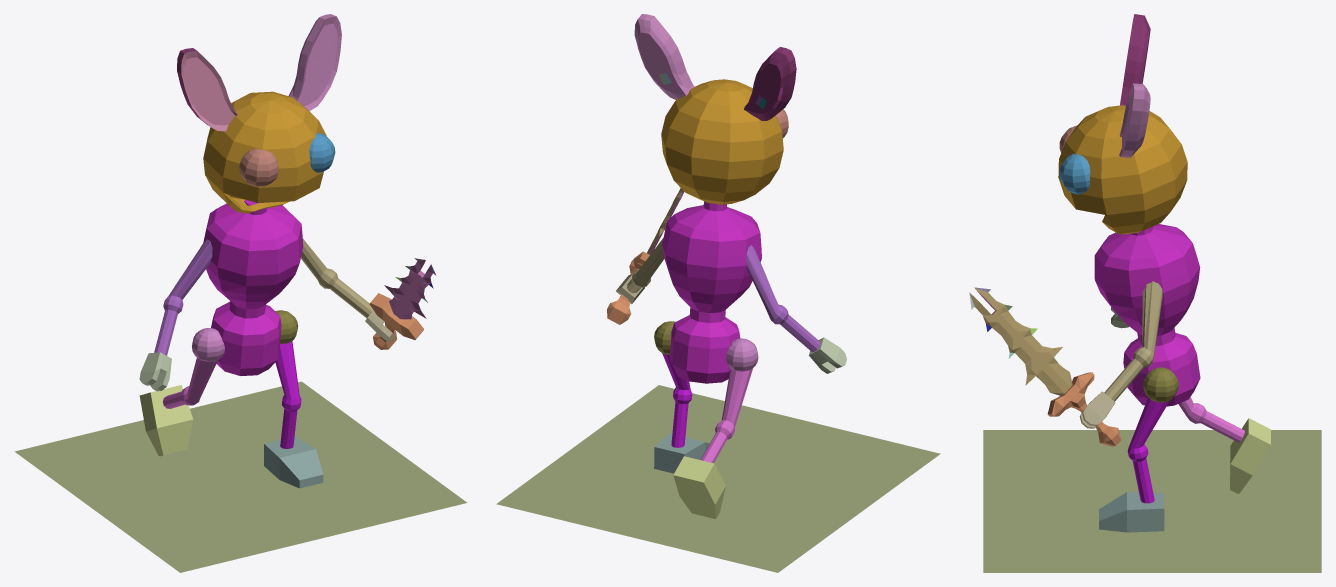
3 renders of one model, left to right at view 1: azimuth 30°, elevation 25°; view 2: azimuth 150°, elevation 25°; view 3: azimuth 270°, elevation 25°, orthographic. The views are drawn at different scales.
Visible parts, largest first — view 1: world; view 2: world; view 3: world.
Boxes of the visible parts, left/top/right/bottom form: world: left=14, top=14, right=467, bottom=572; world: left=496, top=14, right=940, bottom=572; world: left=969, top=14, right=1321, bottom=572.
Bounding box in the file's own units: 1.34 × 2 × 1.4.
